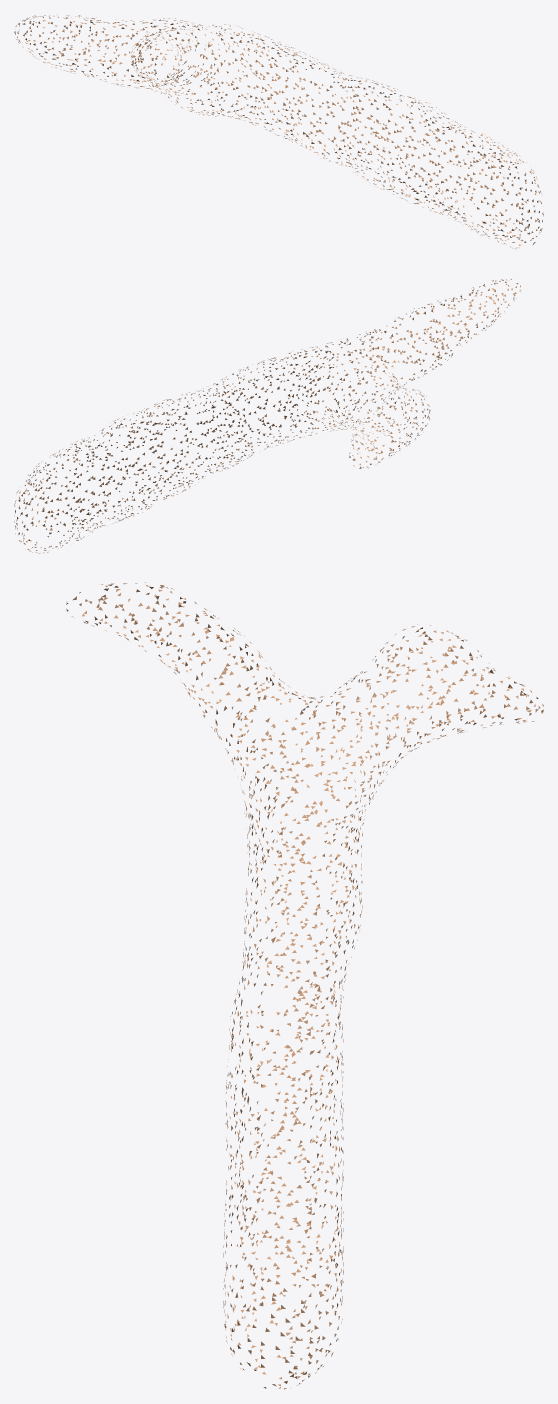
File: morph_005.glb
The picture shows the model from 3 angles, top to bottom: view 1: azimuth 30°, elevation 25°; view 2: azimuth 150°, elevation 25°; view 3: azimuth 270°, elevation 25°; orthographic projection. The views are drawn at different scales.
Bounding box in the file's own units: 118 × 82.89 × 78.7.
